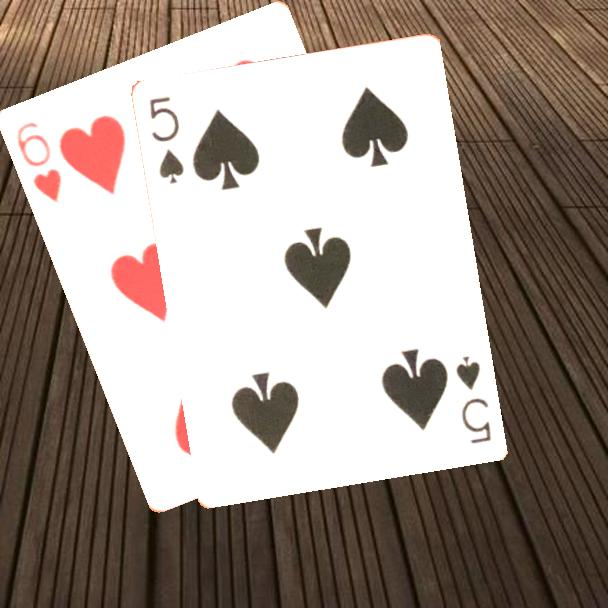h06: (12, 118, 64, 206)
s05: (452, 353, 495, 447), (146, 93, 188, 187)
